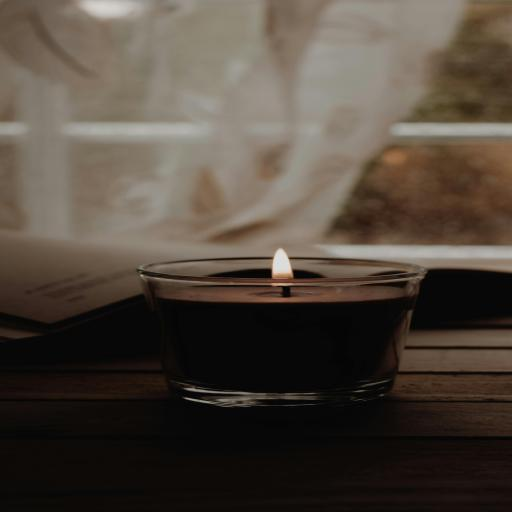candlelight: (139, 242, 425, 403)
